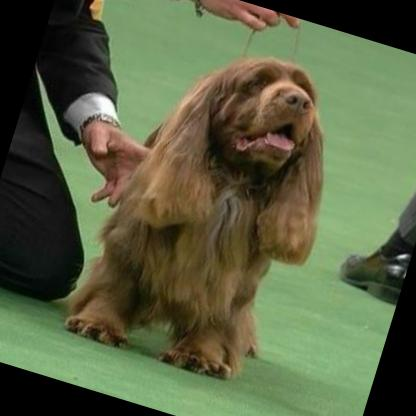Sussex_spaniel: (58, 18, 364, 394)
